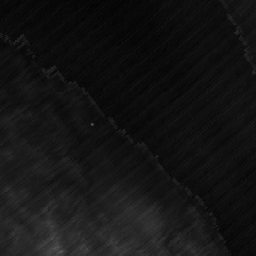Target: (88, 120, 95, 127)
